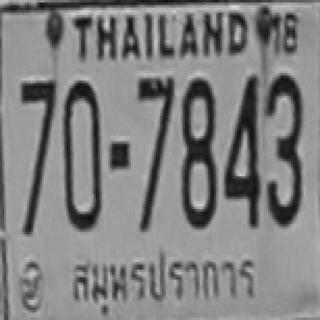N00: (62, 79, 103, 233)
N03: (264, 73, 305, 228)
N04: (222, 74, 262, 229)
N07: (19, 78, 58, 236), (137, 76, 175, 232)
N08: (180, 77, 218, 230)
P57: (62, 249, 269, 311)
